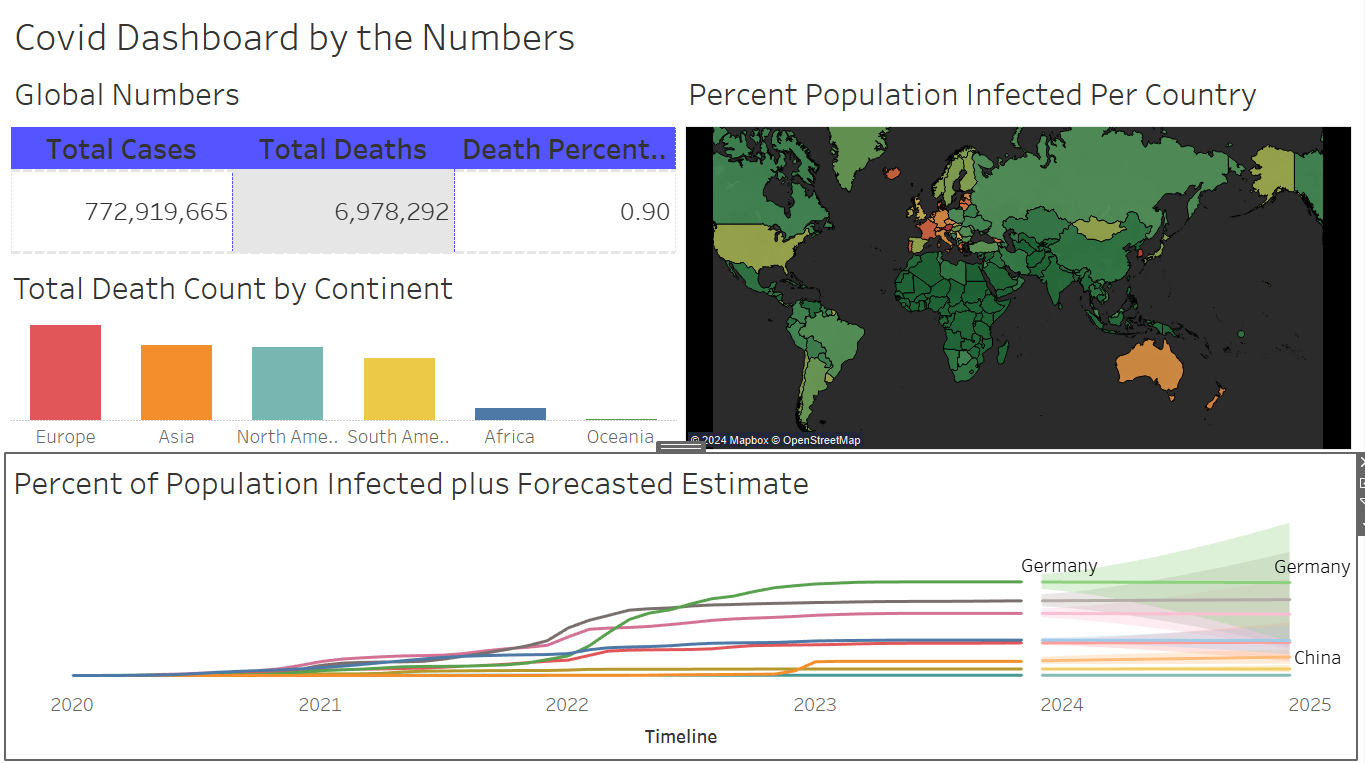

The page's visual inventory and layout, read from the dashboard file:
{"tool":"tableau","page":{"name":"Covid Dashboard by the Numbers","canvas":[1366,768],"ordinal":0},"visuals":[{"type":"title","box":[8,8,1350,58]},{"type":"worksheet","title":"Global Numbers","mark":"Automatic","box":[8,66,675,194.2]},{"type":"worksheet","title":"World Map- (Percent Population infected per country)","mark":"Automatic","box":[683,66,675,388.5]},{"type":"worksheet","title":"Total Death Count by Continent","mark":"Automatic","rows":["TotalDeathCount"],"cols":["location"],"box":[8,260.2,675,194.3]},{"type":"worksheet","title":"Graph","mark":"Automatic","rows":["PercentPopulationInfected"],"cols":["date"],"box":[8,454.5,1350,305.5]}]}

Visuals, with their boxes in screenshot pixels (x1, y1, x2, y2), scaled from the page's 1366x768 canvas onto the 1365x763 screenshot:
title: x1=8 y1=8 x2=1357 y2=66
"Global Numbers" worksheet: x1=8 y1=66 x2=682 y2=259
"World Map- (Percent Population infected per country)" worksheet: x1=682 y1=66 x2=1357 y2=452
"Total Death Count by Continent" worksheet: x1=8 y1=259 x2=682 y2=452
"Graph" worksheet: x1=8 y1=452 x2=1357 y2=755
